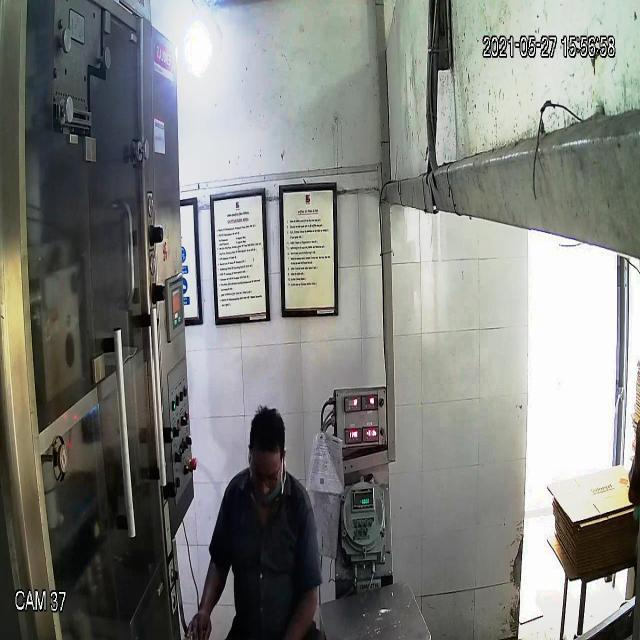glasses: (246, 457, 286, 494)
